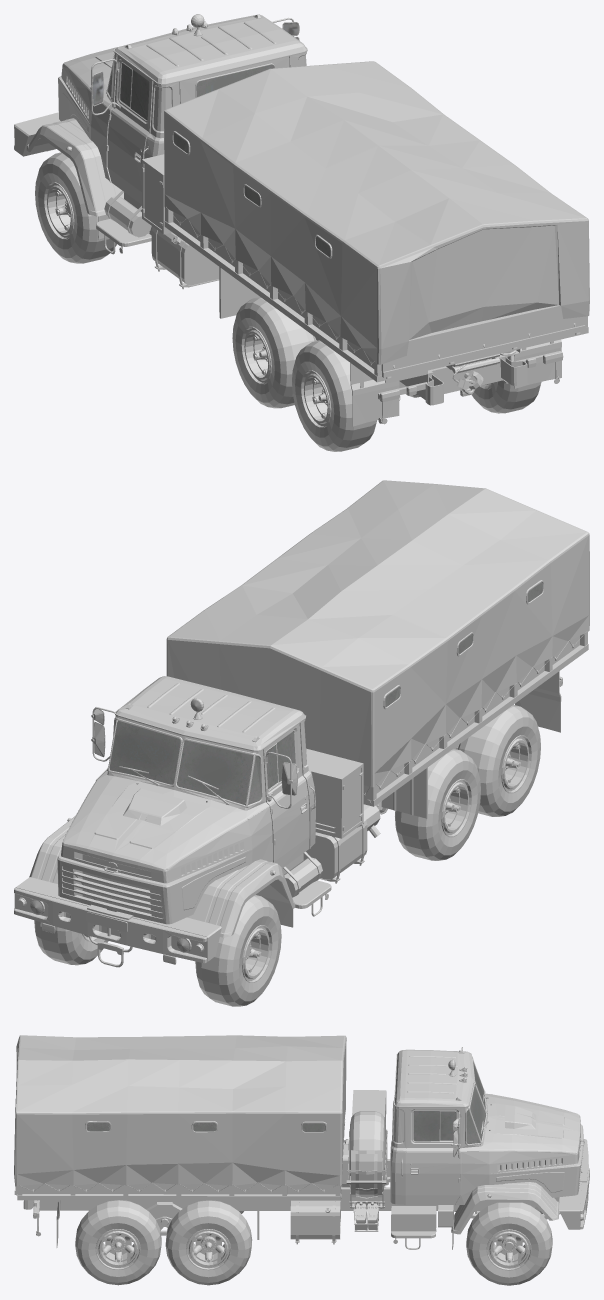
The model's file is Kraz_6322.fbx.
The picture shows the model from 3 angles, top to bottom: view 1: azimuth 30°, elevation 25°; view 2: azimuth 150°, elevation 25°; view 3: azimuth 270°, elevation 25°; orthographic projection. The views are drawn at different scales.
Visible parts, largest first — view 1: Chassis, Roue_02, Roue_01, Roue_Gauche_01; view 2: Chassis, Roue_01, Roue_Gauche_01, Roue_02, Roue_Droite_01; view 3: Chassis, Roue_01, Roue_02, Roue_Droite_01.
Part boxes in pixels (<box>): Chassis: <box>14,14,589,426</box>; Roue_02: <box>292,340,541,451</box>; Roue_01: <box>232,297,315,408</box>; Roue_Gauche_01: <box>35,152,116,263</box>; Chassis: <box>14,480,589,967</box>; Roue_01: <box>395,748,480,860</box>; Roue_Gauche_01: <box>195,895,281,1006</box>; Roue_02: <box>458,704,540,816</box>; Roue_Droite_01: <box>34,920,108,965</box>; Chassis: <box>14,1035,589,1249</box>; Roue_01: <box>165,1200,252,1285</box>; Roue_02: <box>75,1200,161,1285</box>; Roue_Droite_01: <box>466,1202,552,1285</box>.
Bounding box in the file's own units: 2.22 × 6.86 × 2.53.
Materials: 2 (1 with a texture image).
